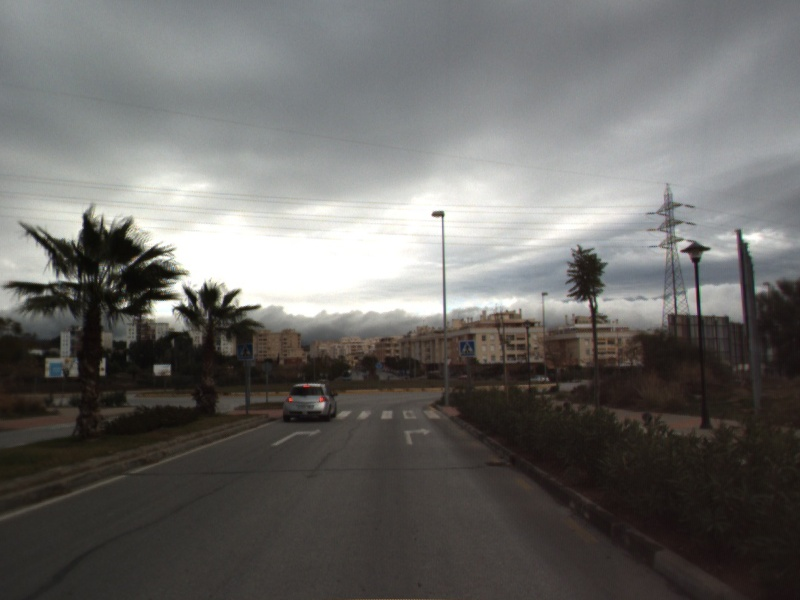RIGHT: (269, 426, 323, 448), (402, 425, 433, 446)
